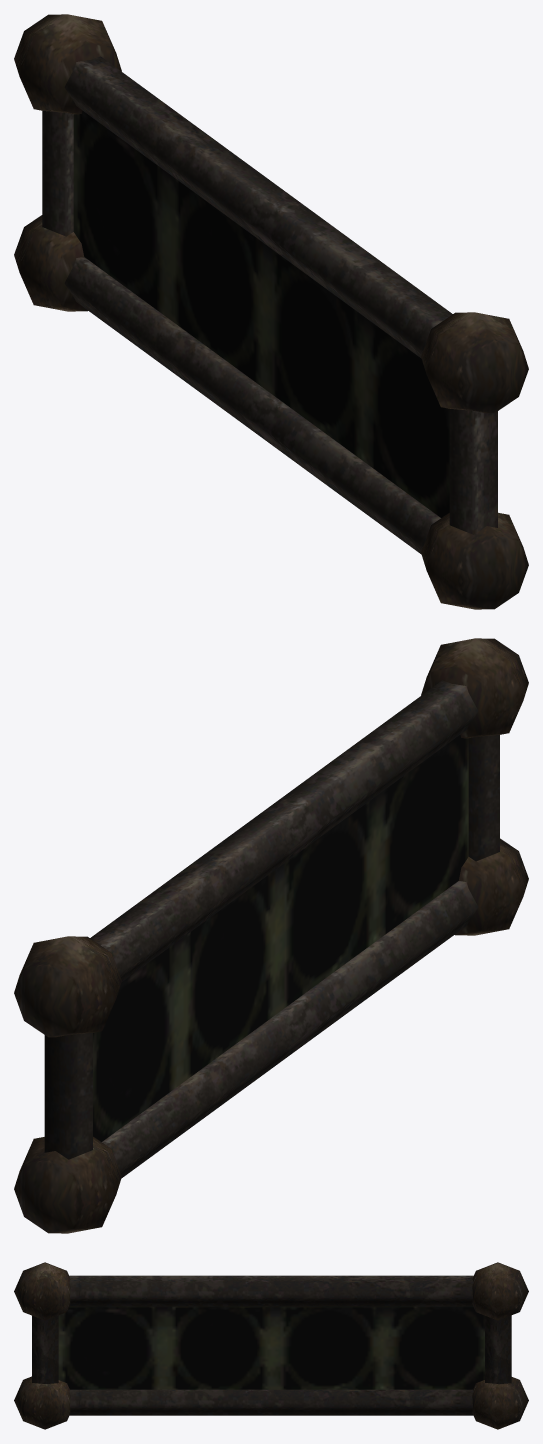
Rendered from railings_factory_1m_support_dirty.DAE.
The picture shows the model from 3 angles, top to bottom: view 1: azimuth 30°, elevation 25°; view 2: azimuth 150°, elevation 25°; view 3: azimuth 270°, elevation 25°; orthographic projection. The views are drawn at different scales.
Visible parts, largest first — view 1: Object143, Object144; view 2: Object143, Object144; view 3: Object143, Object144.
Part boxes in pixels (x1,y1,x2,y2): Object143: (14, 14, 528, 609); Object144: (73, 111, 449, 517); Object143: (14, 638, 528, 1233); Object144: (93, 735, 468, 1141); Object143: (14, 1262, 528, 1429); Object144: (58, 1306, 484, 1389).
Bounding box in the file's own units: 0.12 × 0.3523 × 0.9944.
